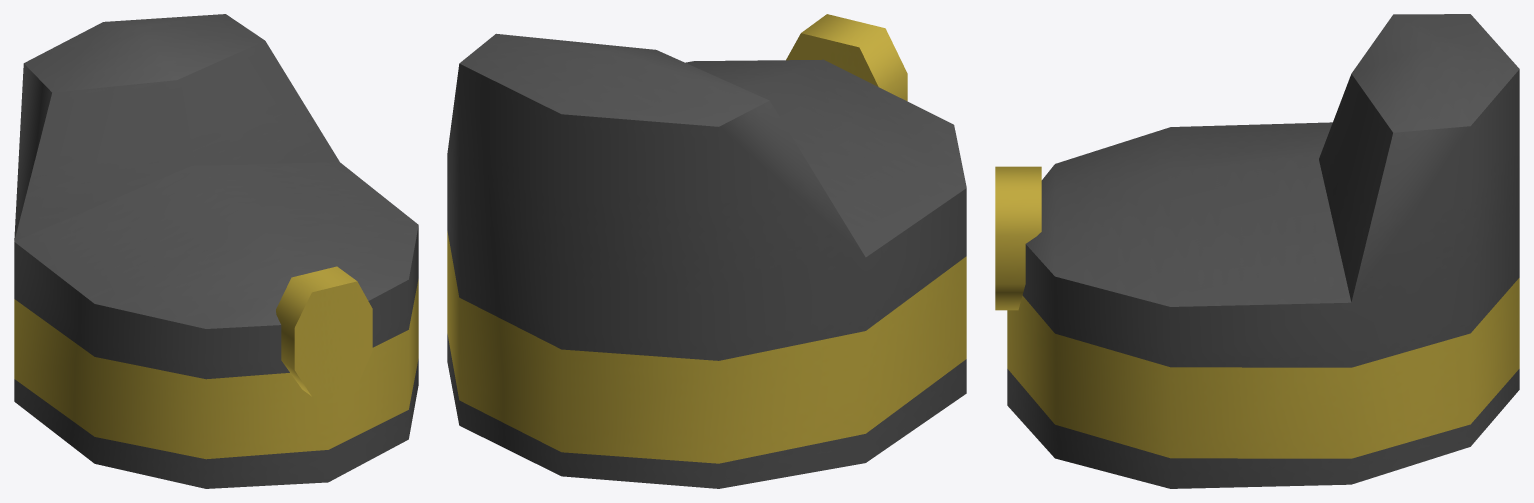
File: I_hat_2_lvl.fbx
The picture shows the model from 3 angles, left to right: view 1: azimuth 30°, elevation 25°; view 2: azimuth 150°, elevation 25°; view 3: azimuth 270°, elevation 25°; orthographic projection. The views are drawn at different scales.
Visible parts, largest first — view 1: I_hat_2_lvl; view 2: I_hat_2_lvl; view 3: I_hat_2_lvl.
Part boxes in pixels (x1,y1,x2,y2): I_hat_2_lvl: (14, 14, 418, 488); I_hat_2_lvl: (447, 14, 966, 488); I_hat_2_lvl: (995, 14, 1519, 488).
Size of the model in its own units: 54.08 by 50.78 by 66.26.
